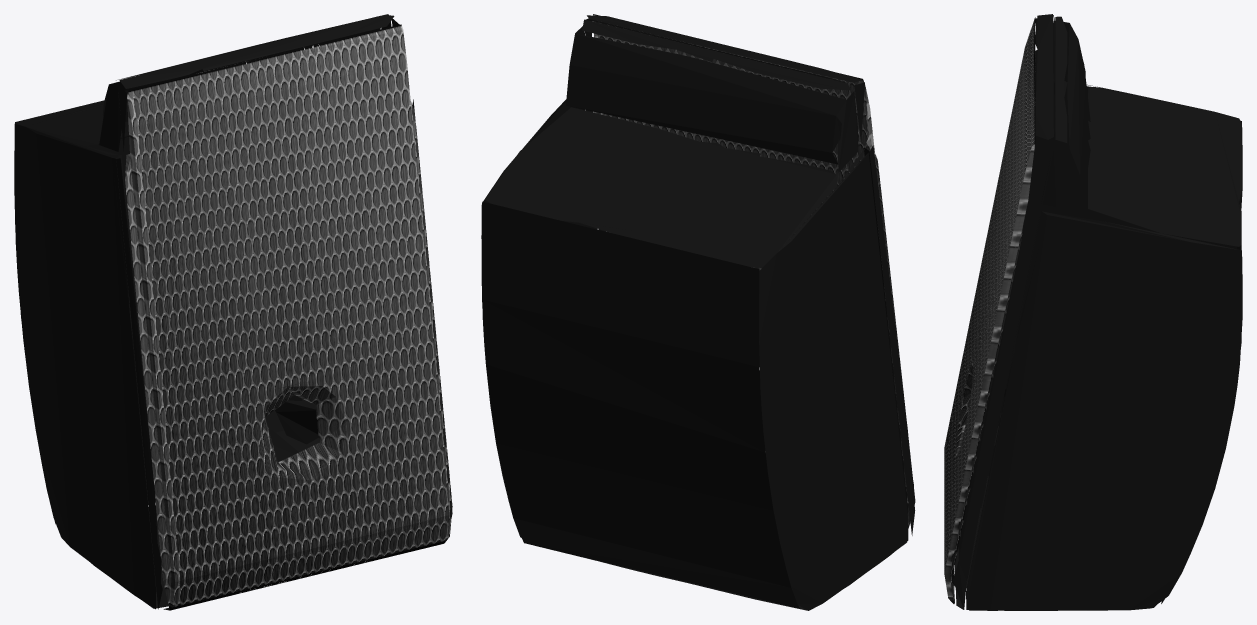
File: PC_Speaker.FBX
The picture shows the model from 3 angles, left to right: view 1: azimuth 30°, elevation 25°; view 2: azimuth 150°, elevation 25°; view 3: azimuth 270°, elevation 25°; orthographic projection. The views are drawn at different scales.
Visible parts, largest first — view 1: Plane02; view 2: Plane02; view 3: Plane02.
Boxes of the visible parts, x1=… form: Plane02: x1=14, y1=14, x2=452, y2=610; Plane02: x1=481, y1=14, x2=915, y2=610; Plane02: x1=944, y1=14, x2=1242, y2=610.
Bounding box in the file's own units: 3.75 × 6.07 × 3.51.
Materials: 2 (1 with a texture image).
